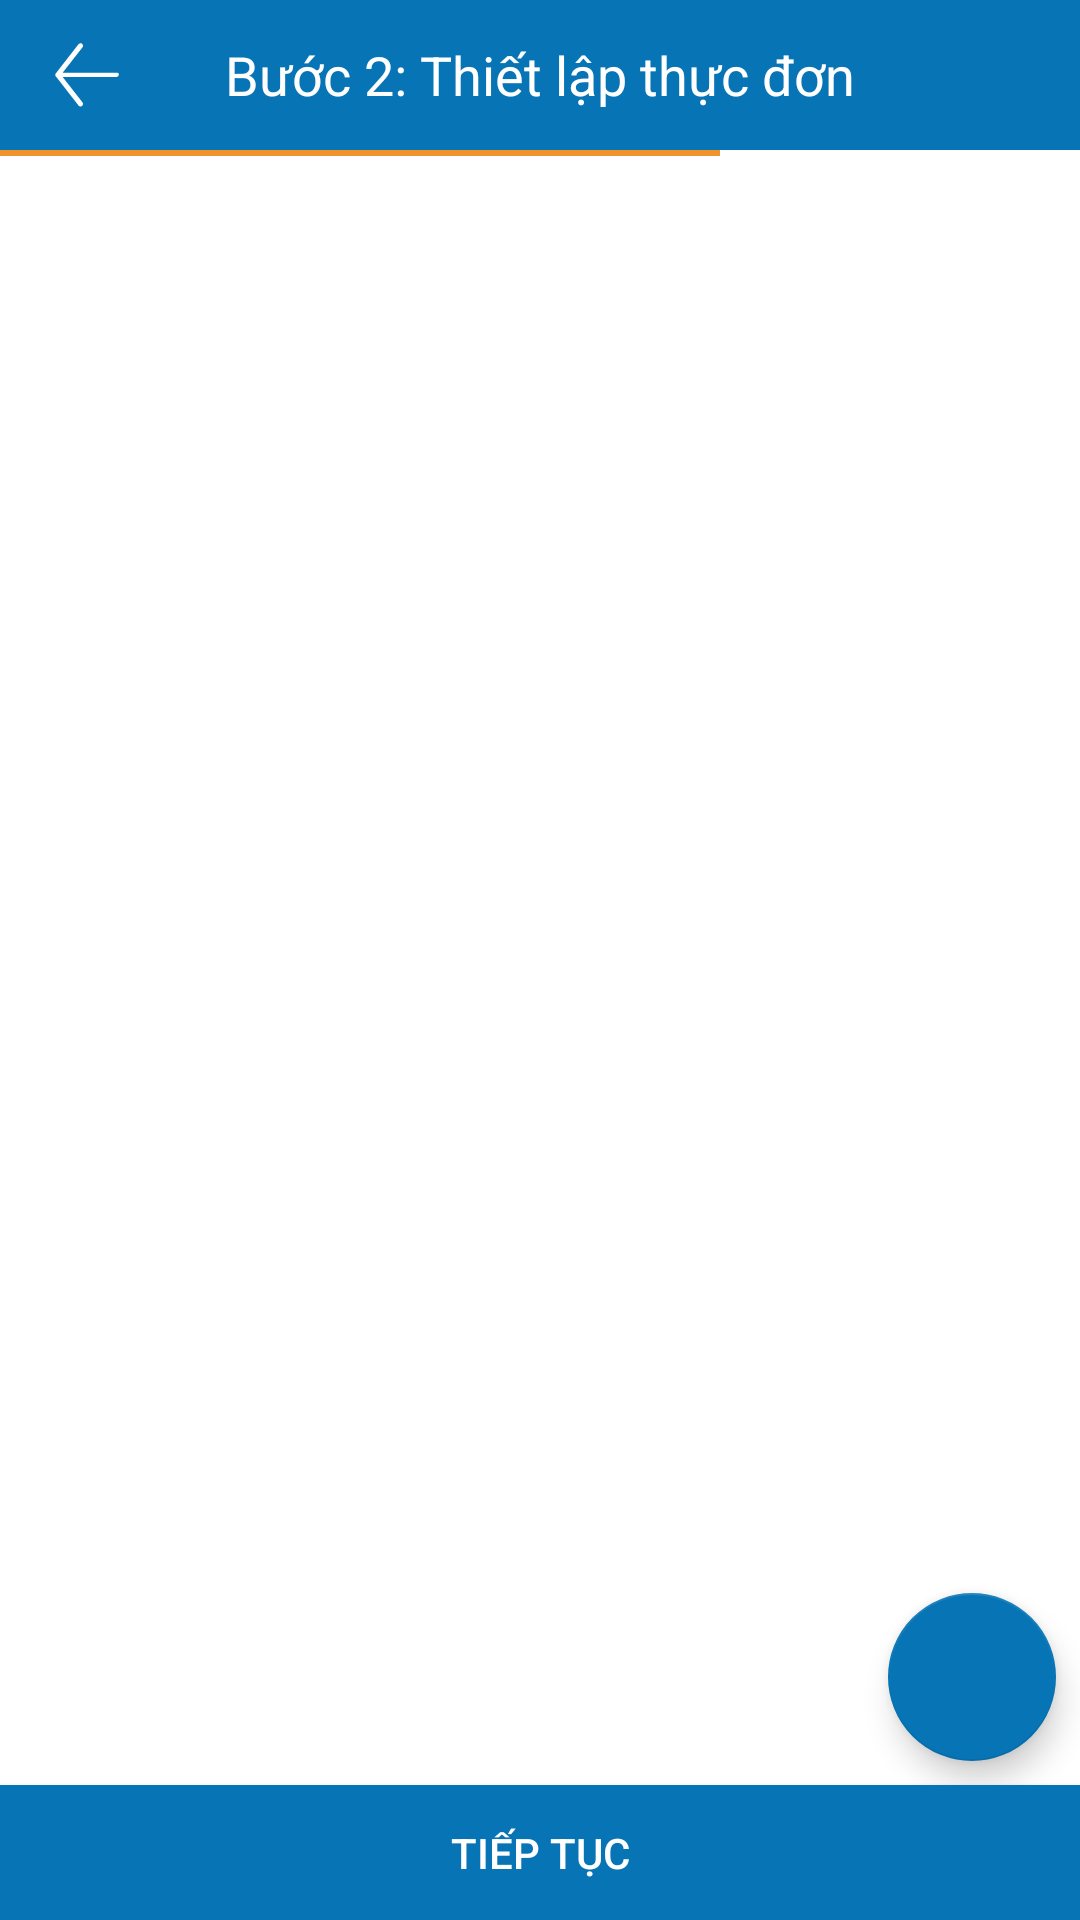

Screen size 1080px×1920px. Icon name, then its box in pixels as (x1, y1, x2, y2):
back: (55, 43, 119, 107)
